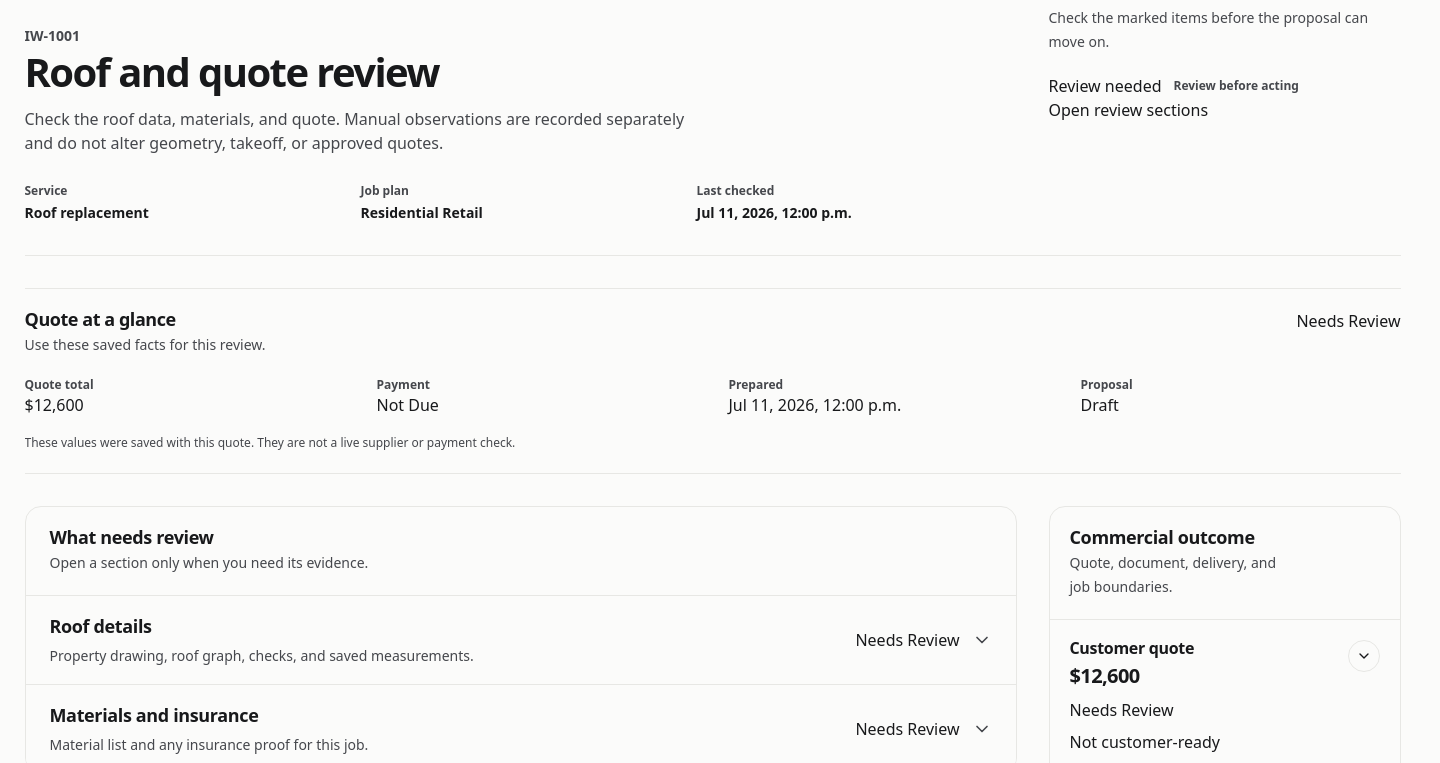
Test case: EstimatorWorkbenchPage › keeps source tables semantic and leaves static geometry notices out of the live region
Expected: the heading "Roof and quote review" is shown, [24,44,439,99]
Click the text "Roof details" at (101, 626), box [50,614,152,638]
(page scrolled)
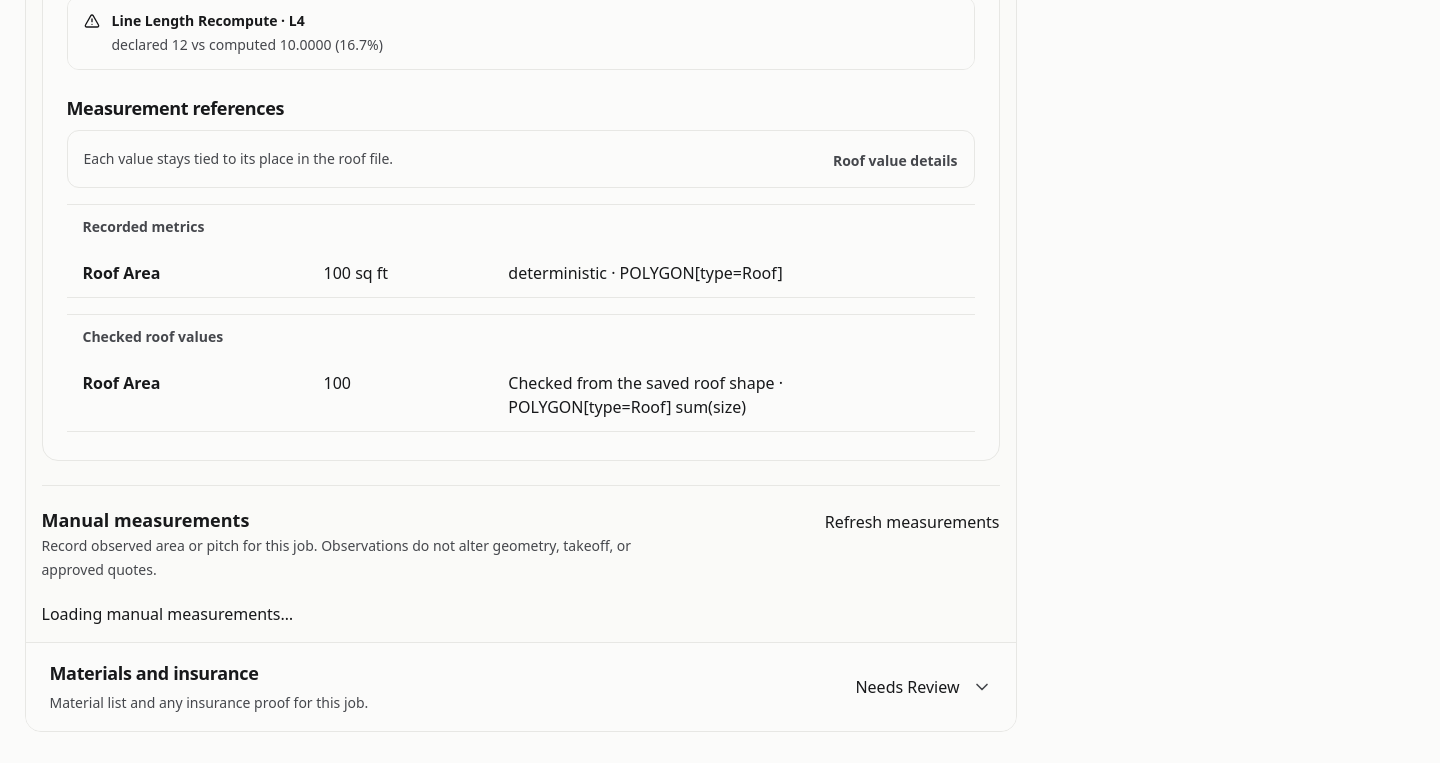
Click the text "Materials and insurance" at (154, 674), box [50,662,258,686]
(page scrolled)
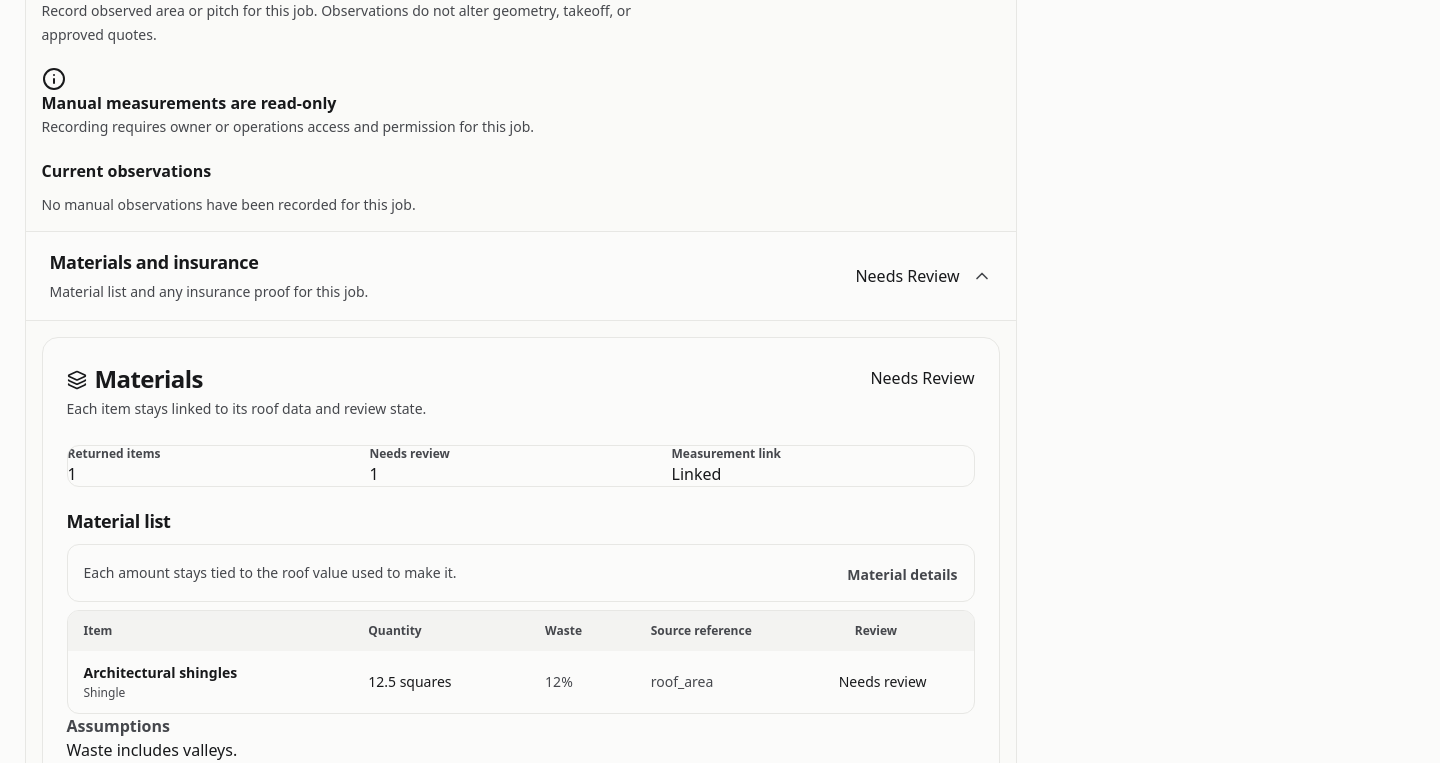
Result: the column heading "Architectural shingles Shingle" is shown at [68,650,352,712]
